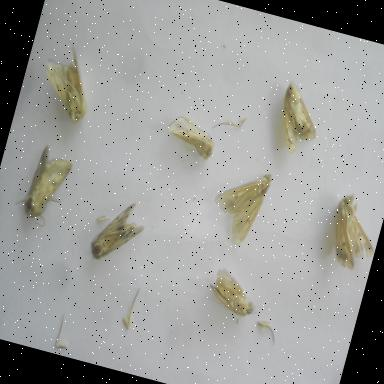abw: (201, 158, 278, 254), (30, 36, 105, 129), (9, 140, 78, 234), (84, 192, 154, 274), (320, 190, 384, 278), (268, 78, 332, 163), (201, 264, 268, 324), (159, 108, 222, 166)
